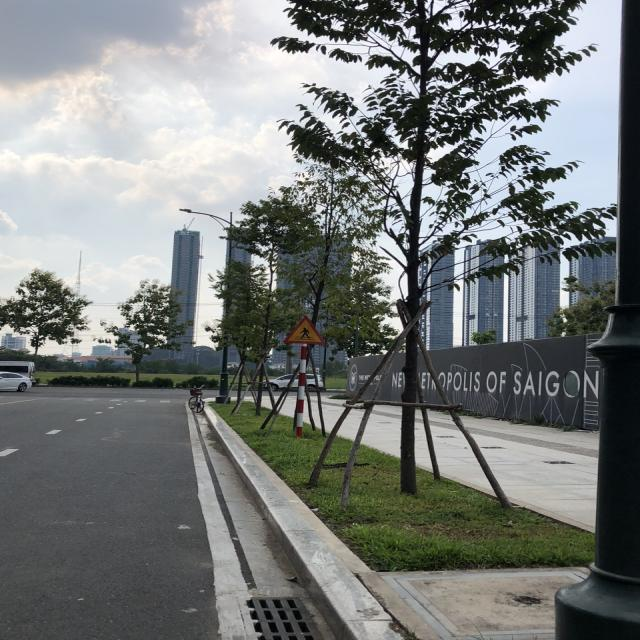Bien bao duong nguoi di bo cat ngang: (280, 312, 326, 347)
